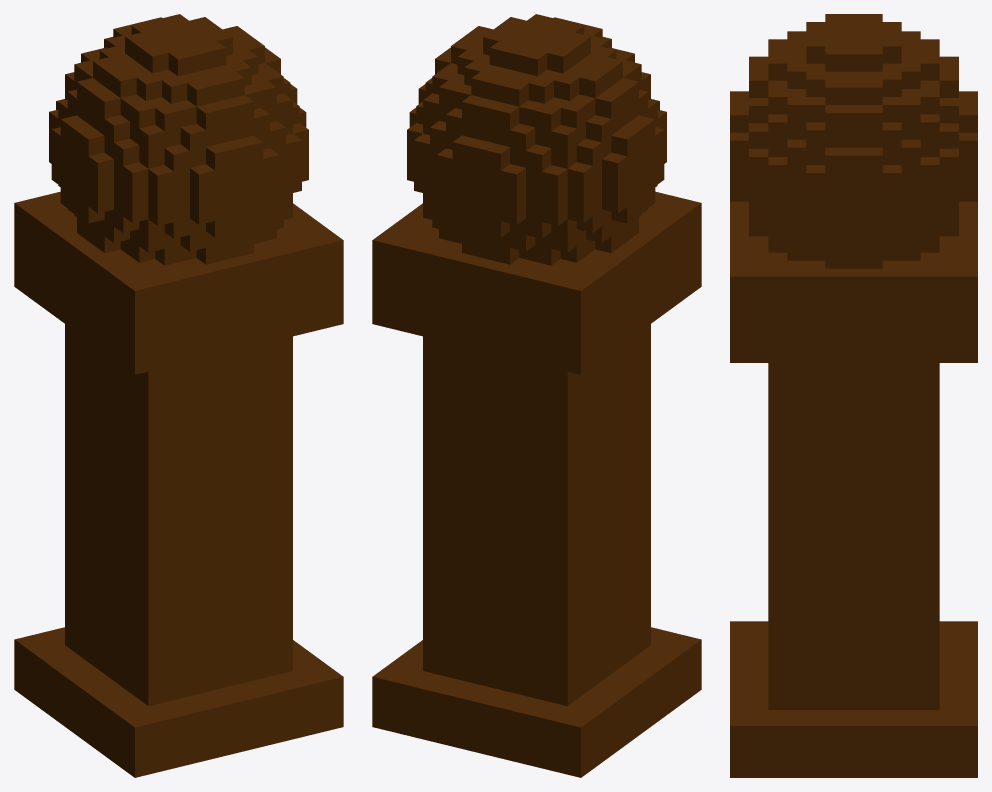
The model's file is SecondFloorRailings2.obj.
3 views of the same model, side by side, from view 1: azimuth 30°, elevation 25°; view 2: azimuth 150°, elevation 25°; view 3: azimuth 270°, elevation 25° (orthographic). The views are drawn at different scales.
Size of the model in its own units: 1.3 by 4 by 1.3.
1 material, 1 textured.
